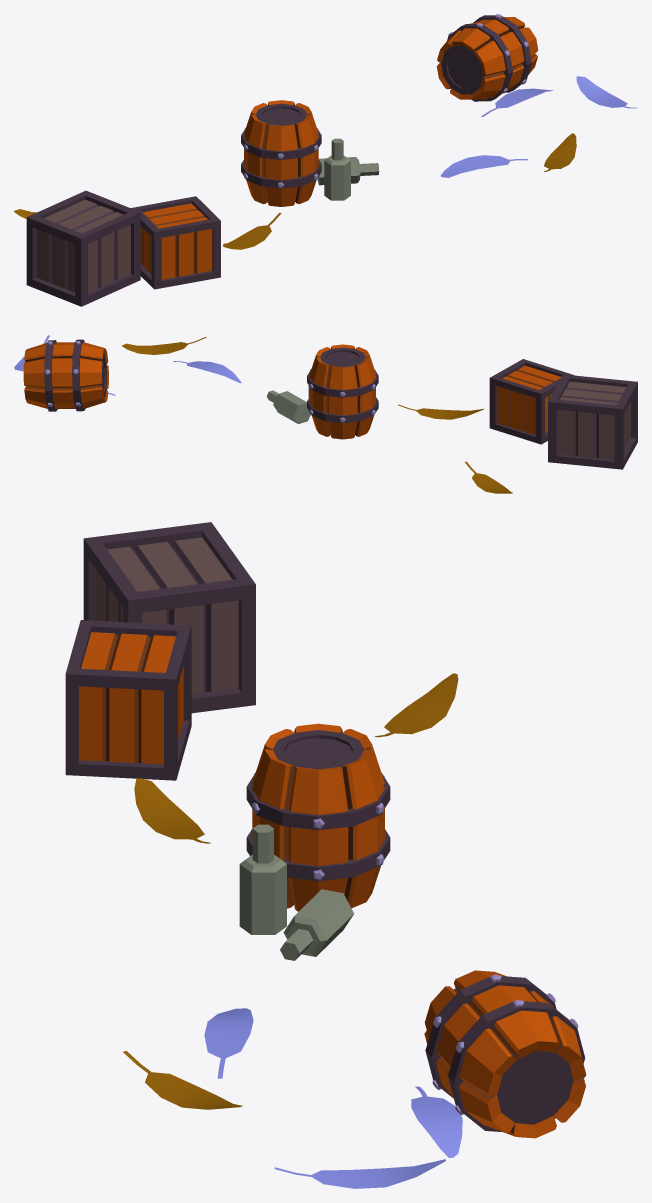
The model's file is seamanroom4.fbx.
The picture shows the model from 3 angles, top to bottom: view 1: azimuth 30°, elevation 25°; view 2: azimuth 150°, elevation 25°; view 3: azimuth 270°, elevation 25°; orthographic projection. The views are drawn at different scales.
Visible parts, largest first — view 1: seamanroom4; view 2: seamanroom4; view 3: seamanroom4.
Part boxes in pixels (x1,y1,x2,y2): seamanroom4: (14, 14, 637, 306); seamanroom4: (14, 335, 637, 493); seamanroom4: (65, 522, 586, 1188).
Bounding box in the file's own units: 669 × 86.25 × 268.
1 material, 1 textured.
